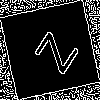Z: (25, 25, 80, 75)
